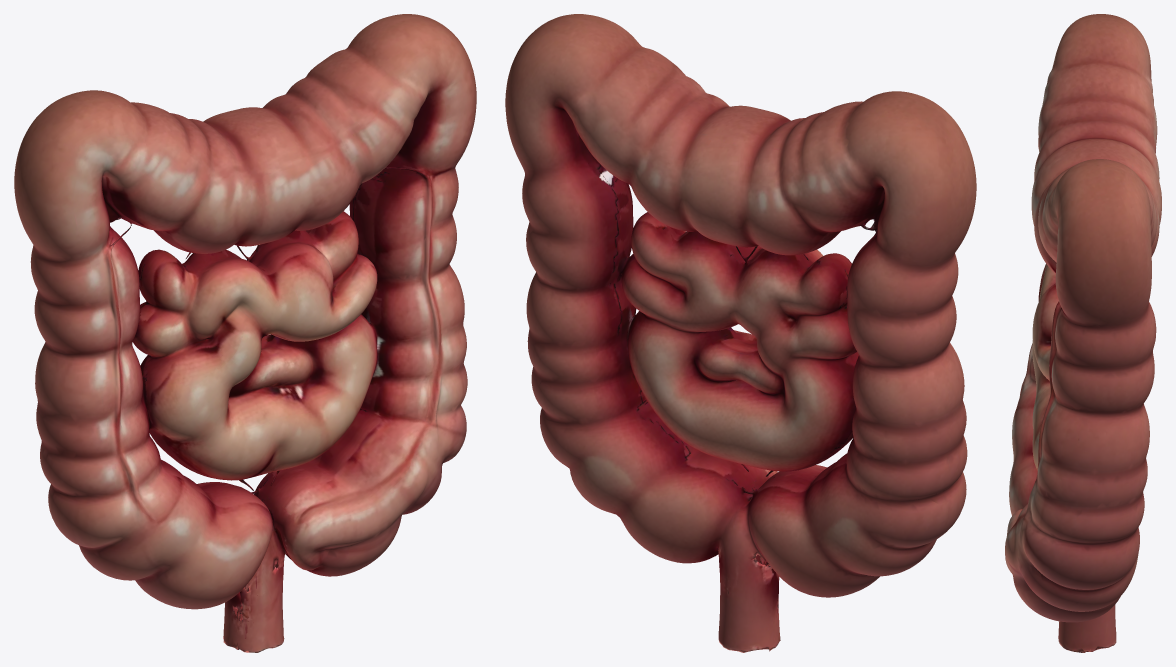
The model's file is cat_intestines.glb.
3 views of the same model, side by side, from view 1: azimuth 30°, elevation 25°; view 2: azimuth 150°, elevation 25°; view 3: azimuth 270°, elevation 25° (orthographic). The views are drawn at different scales.
Parts seen in each view (by area): view 1: model; view 2: model; view 3: model.
Part boxes in pixels (bbox=[...]): model: bbox=[14, 14, 476, 652]; model: bbox=[505, 14, 976, 652]; model: bbox=[1005, 14, 1161, 652].
Size of the model in its own units: 1.53 by 1.9 by 0.4931.
1 material, 1 textured.
